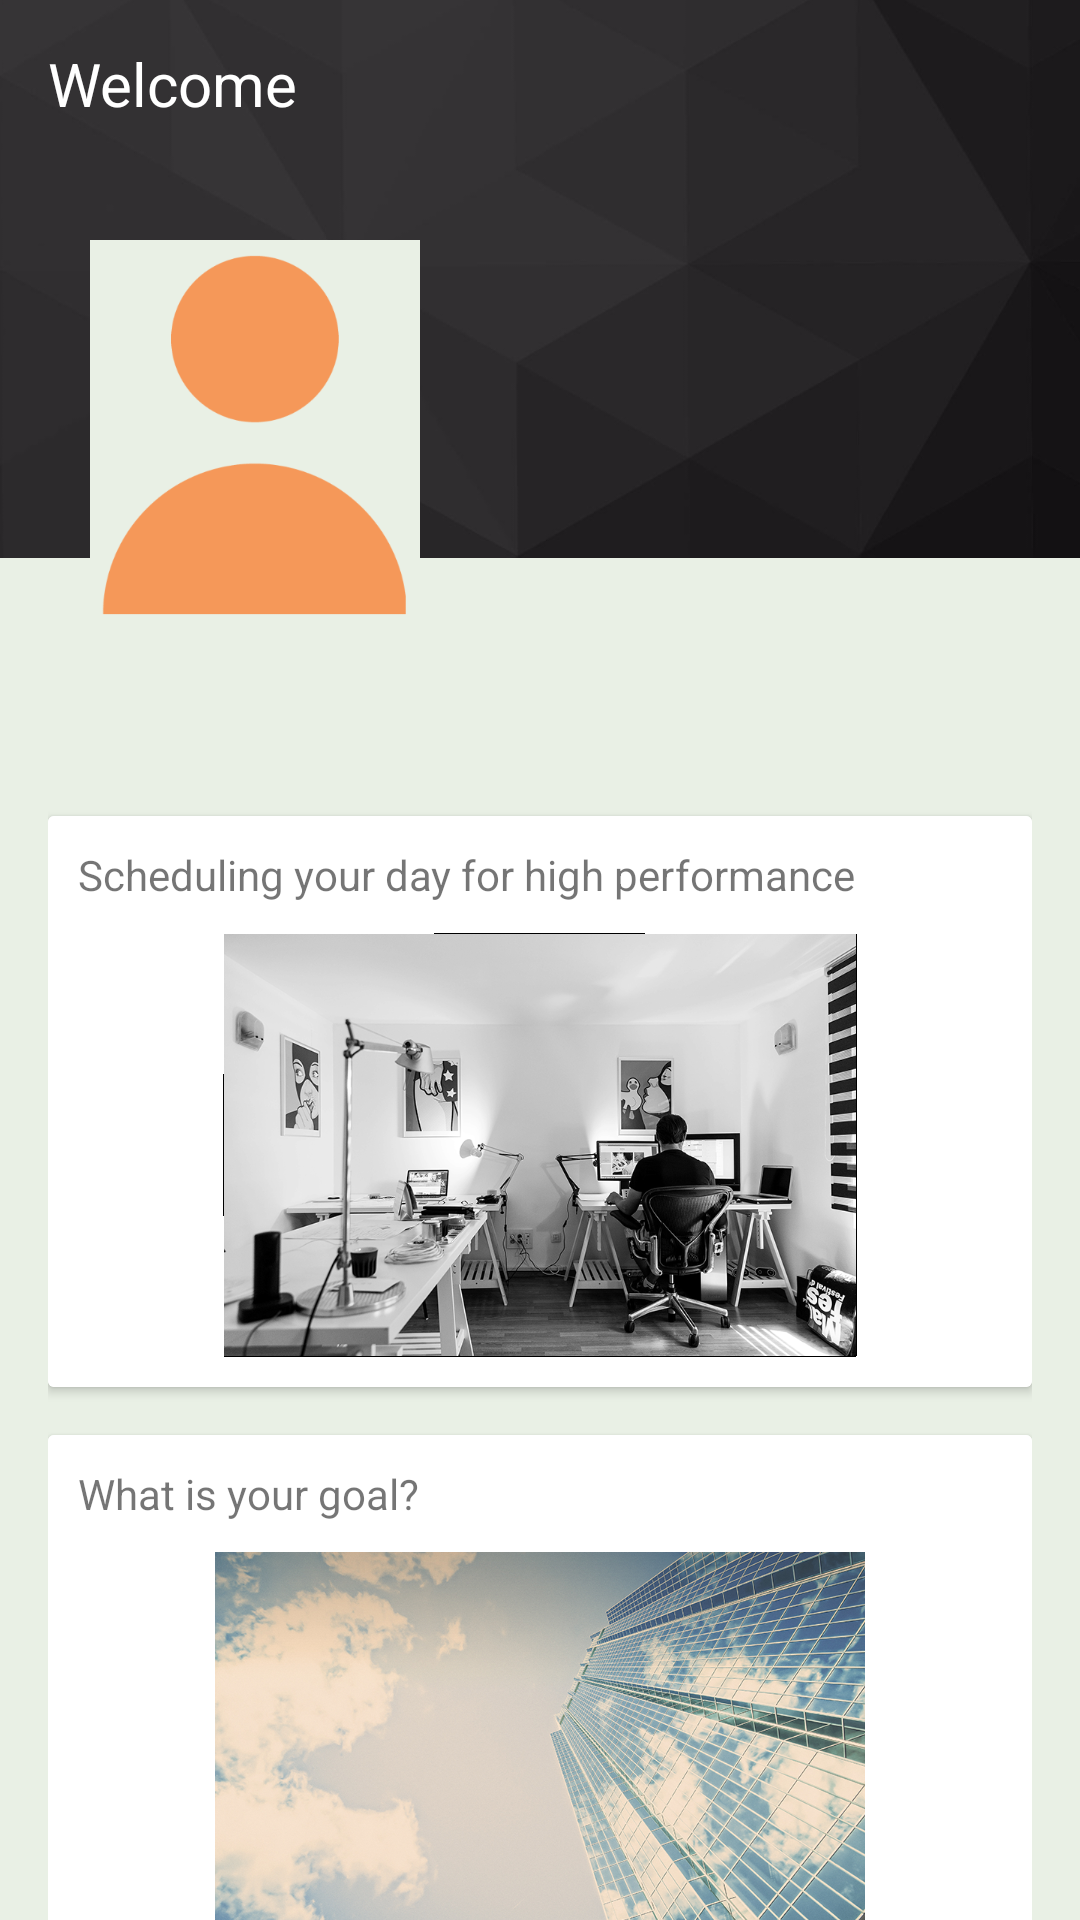

Point at icon controls on the screen. Image size 1080w x 1920h, points as [x,y].
user: [254,435]
